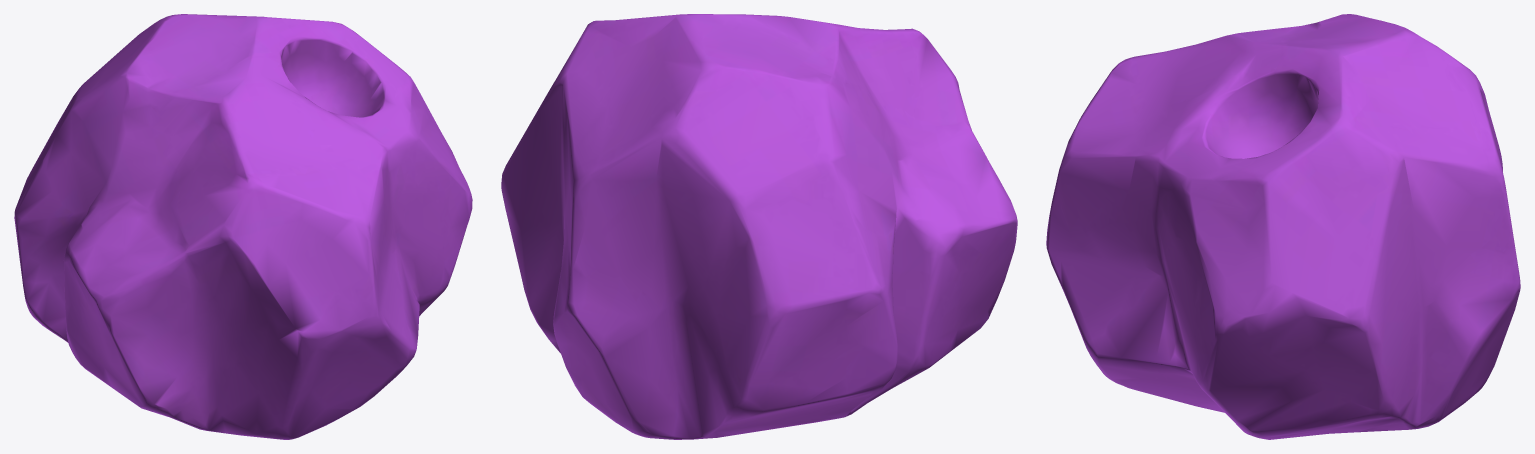
Rendered from rock.glb.
3 views of the same model, side by side, from view 1: azimuth 30°, elevation 25°; view 2: azimuth 150°, elevation 25°; view 3: azimuth 270°, elevation 25° (orthographic). The views are drawn at different scales.
Visible parts, largest first — view 1: tripo_node_9024af76-a058-48e8-8e2e-d34c1f123af7; view 2: tripo_node_9024af76-a058-48e8-8e2e-d34c1f123af7; view 3: tripo_node_9024af76-a058-48e8-8e2e-d34c1f123af7.
Boxes of the visible parts, x1=… form: tripo_node_9024af76-a058-48e8-8e2e-d34c1f123af7: x1=14, y1=14, x2=472, y2=439; tripo_node_9024af76-a058-48e8-8e2e-d34c1f123af7: x1=501, y1=14, x2=1017, y2=439; tripo_node_9024af76-a058-48e8-8e2e-d34c1f123af7: x1=1046, y1=14, x2=1520, y2=439.
Size of the model in its own units: 0.9797 by 0.7805 by 0.9562.
Materials: 1 (1 with a texture image).
